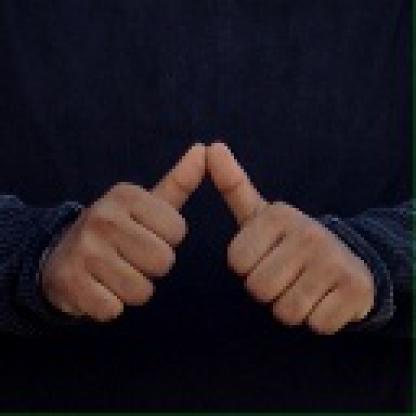A: (57, 130, 378, 346)
